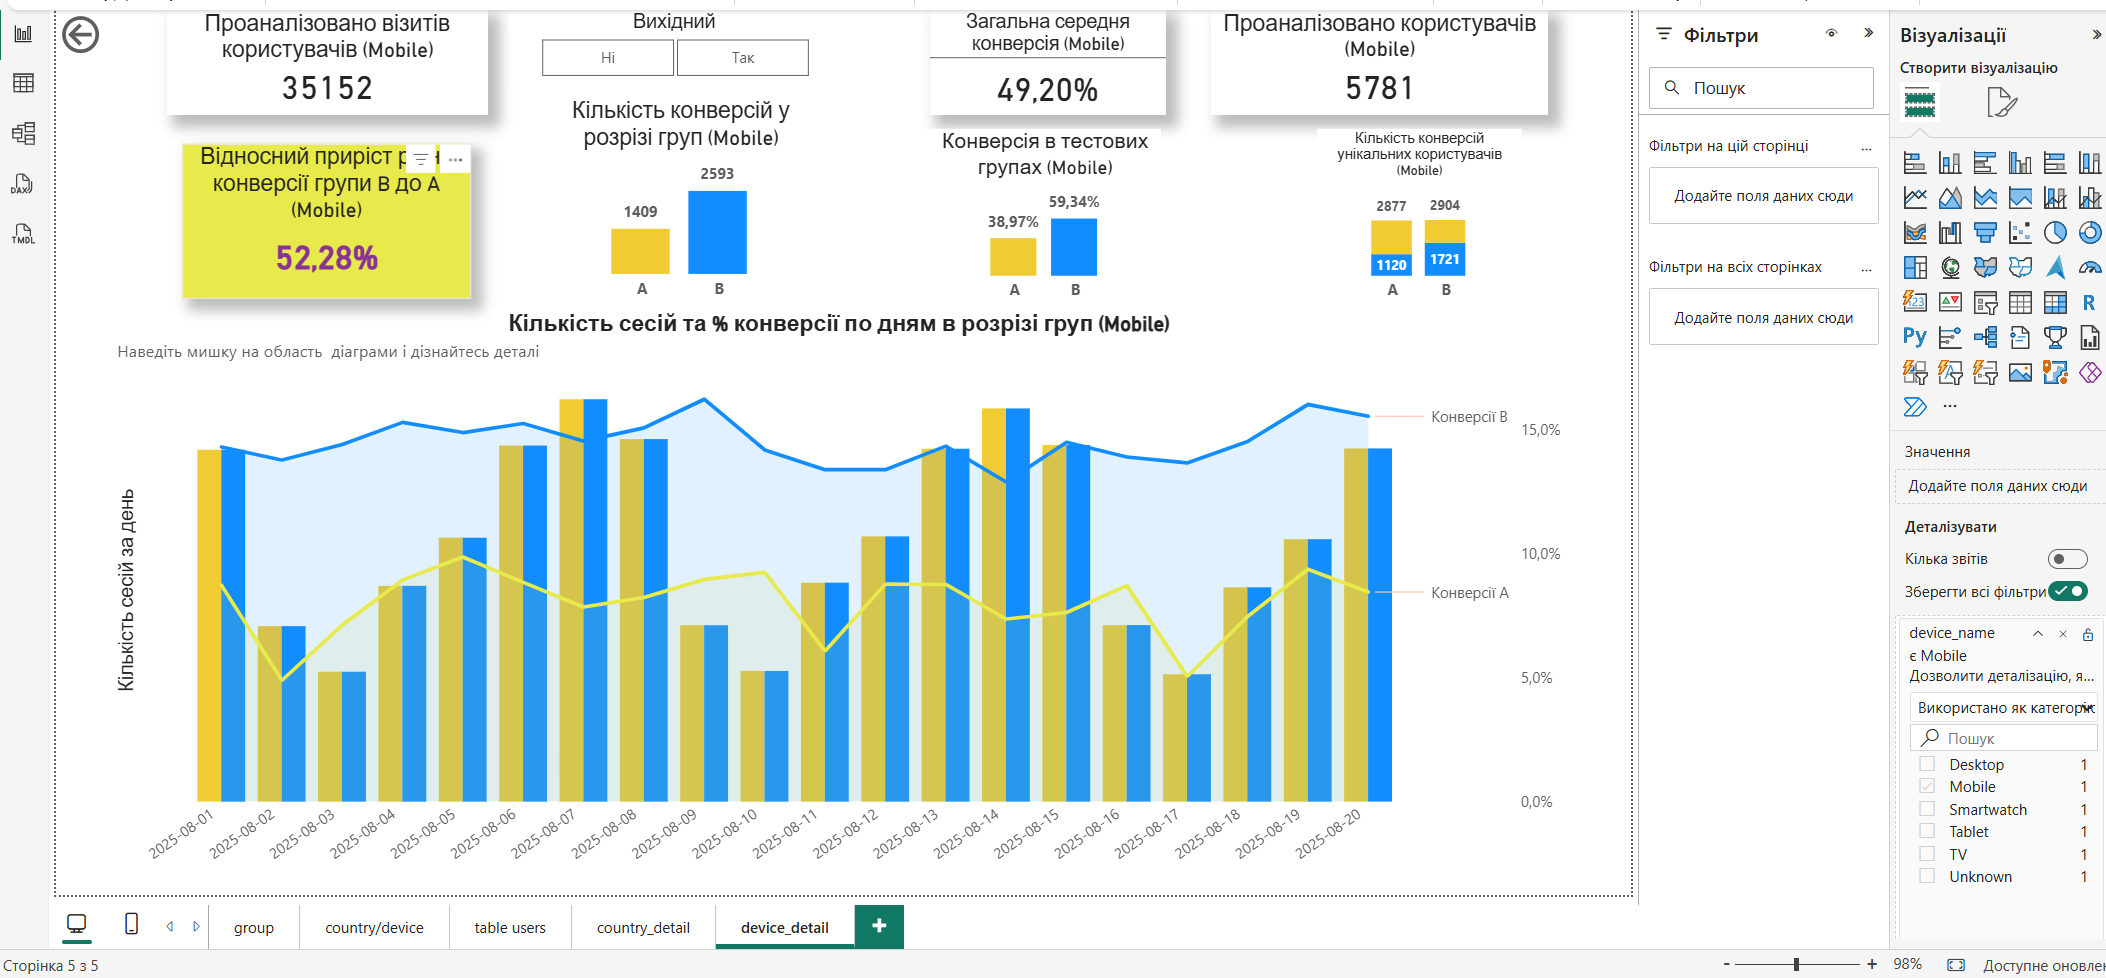

This screenshot's page, from the dashboard's own definition file:
{"tool":"powerbi","page":{"name":"device_detail","canvas":[1280,720],"ordinal":4},"visuals":[{"type":"lineClusteredColumnComboChart","fields":{"Category":["Date.Date"],"Y":["daily.total_visits"],"Y2":["daily.cr_A","daily.cr_B"],"Series":["v_daily_agg.group_label"]},"box":[44.5,244.2,1183.8,469.3],"z":0},{"type":"card","fields":{"Values":["daily.total_visits"]},"box":[90.4,0,260.5,85.9],"z":1000},{"type":"card","fields":{"Values":["daily.cr_lift"]},"box":[102.8,109,234.8,125.8],"z":2000},{"type":"slicer","title":"Вихідний","fields":{"Values":["Date.IsWorkday"]},"box":[368.6,0,267.6,60.2],"z":3000},{"type":"columnChart","fields":{"Y":["daily.converted_visits"],"Category":["group.group_label"]},"box":[389.8,70.9,235.7,173.6],"z":4000},{"type":"card","fields":{"Values":["daily.cr"]},"box":[710.5,0,192.2,85.9],"z":5000},{"type":"clusteredColumnChart","fields":{"Y":["daily.cr"],"Category":["group.group_label"]},"box":[710.5,96.6,187.8,149.7],"z":6000},{"type":"card","fields":{"Values":["daily.total_users"]},"box":[939.1,0,274.6,85.9],"z":7000},{"type":"columnChart","fields":{"Y":["daily.converted_users","daily.not_converted_users"],"Category":["group.group_label"]},"box":[1025.9,96.6,166.6,149.7],"z":8000},{"type":"actionButton","box":[0,0,100,40],"z":9000}]}

Visuals, with their boxes on the page's 1280x720 design canvas (x1, y1, x2, y2). These are canvas units, not pixel positions in the 2106x978 screenshot, which may show the page scaled, cropped or inside an application window:
lineClusteredColumnComboChart - Date.Date x daily.total_visits: rect(44, 244, 1228, 714)
card - daily.total_visits: rect(90, 0, 351, 86)
card - daily.cr_lift: rect(103, 109, 338, 235)
"Вихідний" slicer: rect(369, 0, 636, 60)
columnChart - daily.converted_visits x group.group_label: rect(390, 71, 626, 244)
card - daily.cr: rect(710, 0, 903, 86)
clusteredColumnChart - daily.cr x group.group_label: rect(710, 97, 898, 246)
card - daily.total_users: rect(939, 0, 1214, 86)
columnChart - daily.converted_users x daily.not_converted_users: rect(1026, 97, 1192, 246)
actionButton: rect(0, 0, 100, 40)
